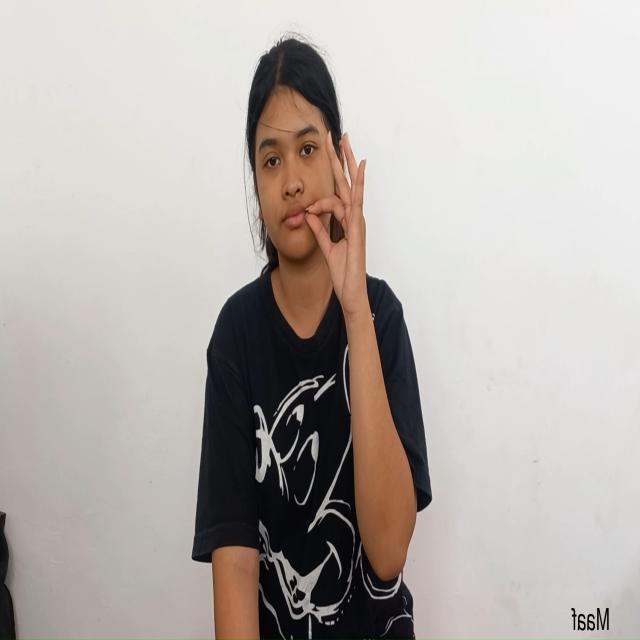Maaf -BISINDO-: (246, 40, 368, 316)
